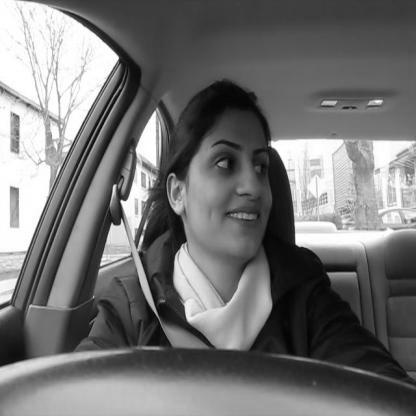seatbelt: (106, 57, 280, 348)
